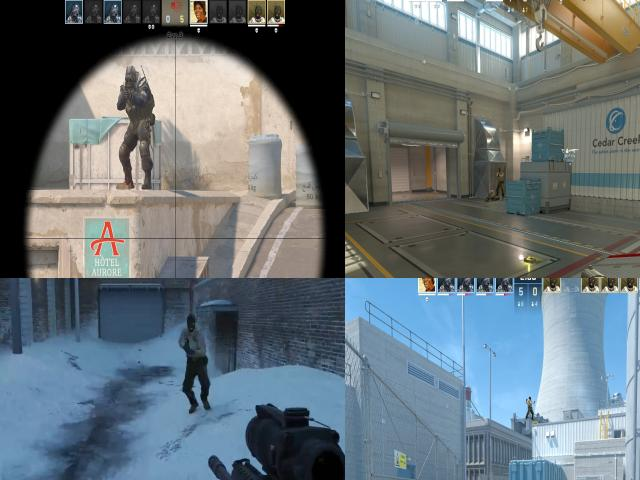Bomb: (524, 254, 534, 267)
CT: (122, 66, 154, 188)
CT-Head: (123, 66, 139, 87)
Dead: (484, 190, 500, 202)
T: (183, 306, 209, 374), (495, 166, 507, 194), (526, 396, 533, 422)
T-Head: (184, 311, 198, 334), (528, 396, 532, 402), (498, 167, 502, 172)
